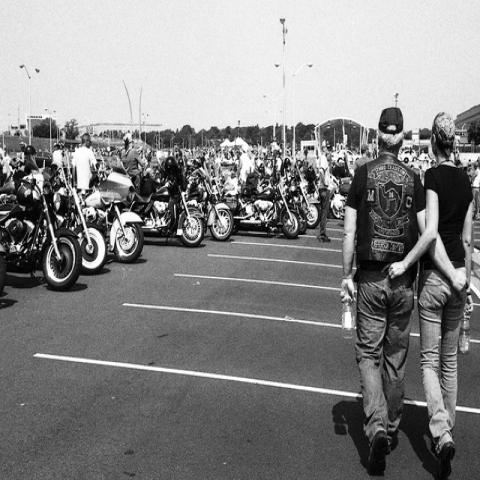motorcycle: (2, 145, 82, 293), (125, 152, 206, 247), (52, 142, 108, 274), (220, 158, 302, 239), (79, 172, 145, 263), (289, 172, 346, 234), (188, 168, 233, 242), (288, 163, 322, 228), (284, 158, 295, 193)
